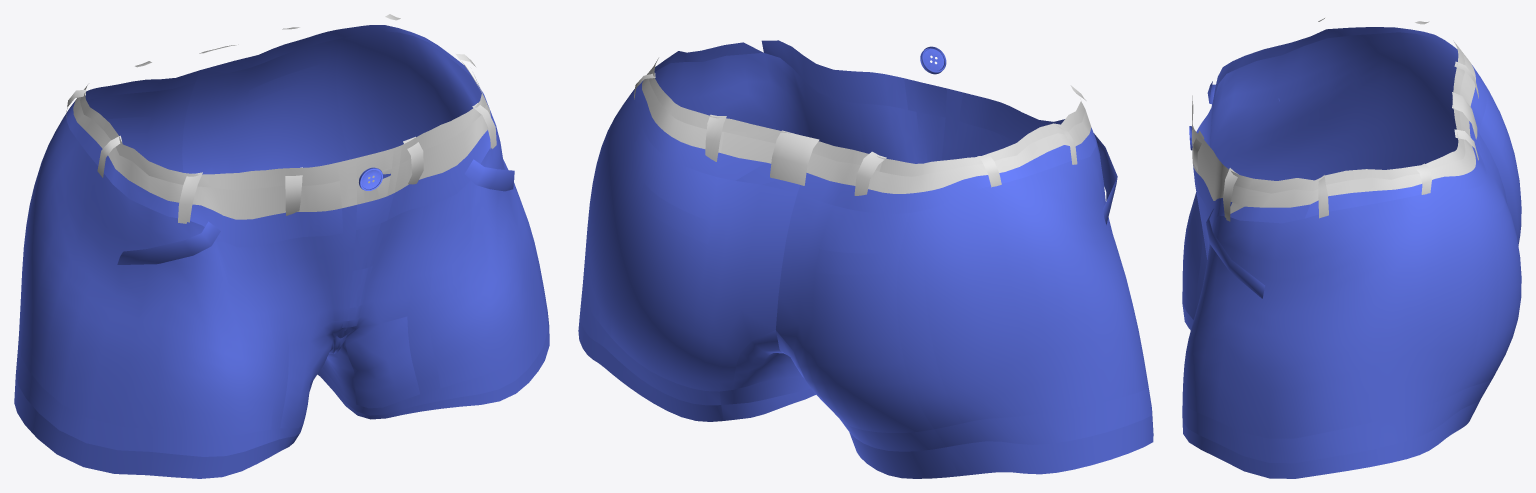
Rendered from booty_shorts.glb.
3 renders of one model, left to right at view 1: azimuth 30°, elevation 25°; view 2: azimuth 150°, elevation 25°; view 3: azimuth 270°, elevation 25°, orthographic. The views are drawn at different scales.
Parts seen in each view (by area): view 1: left_leg, right_leg, waist, left_leg_edge, right_leg_edge, left_pocket, right_pocket; view 2: left_leg, right_leg, waist, left_leg_edge, right_leg_edge, left_pocket; view 3: right_leg, left_leg, waist, right_leg_edge, right_pocket.
Boxes of the visible parts, bbox=[...] form: left_leg: bbox=[15, 70, 356, 456]; right_leg: bbox=[182, 25, 547, 415]; waist: bbox=[66, 14, 496, 223]; left_leg_edge: bbox=[14, 375, 299, 478]; right_leg_edge: bbox=[317, 312, 549, 419]; left_pocket: bbox=[117, 221, 220, 264]; right_pocket: bbox=[464, 159, 514, 191]; left_leg: bbox=[776, 88, 1151, 451]; right_leg: bbox=[580, 40, 946, 405]; waist: bbox=[634, 58, 1091, 195]; left_leg_edge: bbox=[849, 411, 1153, 478]; right_leg_edge: bbox=[578, 315, 815, 421]; left_pocket: bbox=[1094, 133, 1117, 224]; right_leg: bbox=[1182, 121, 1521, 463]; left_leg: bbox=[1182, 27, 1521, 319]; waist: bbox=[1192, 18, 1478, 221]; right_leg_edge: bbox=[1182, 399, 1480, 478]; right_pocket: bbox=[1206, 209, 1264, 298].
Bounding box in the file's own units: 0.4873 × 0.288 × 0.2983.
